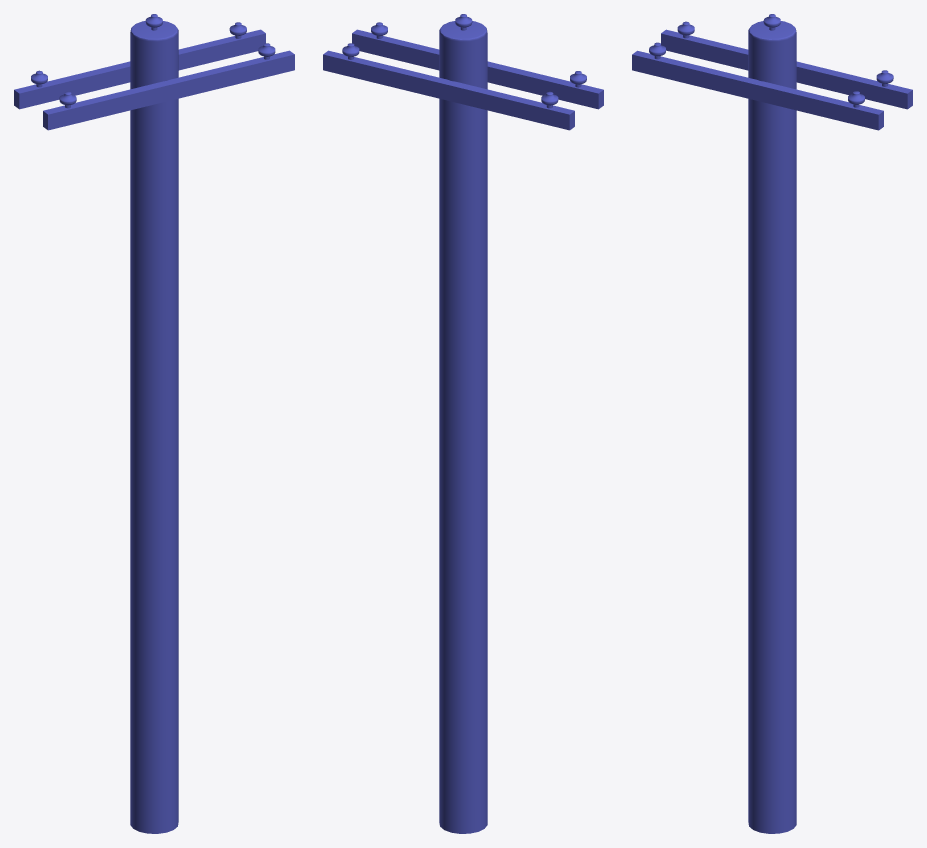
File: SM_utilityPole.fbx
3 views of the same model, side by side, from view 1: azimuth 30°, elevation 25°; view 2: azimuth 150°, elevation 25°; view 3: azimuth 330°, elevation 25° (orthographic).
Visible parts, largest first — view 1: SM_utilityPole; view 2: SM_utilityPole; view 3: SM_utilityPole.
Boxes of the visible parts, x1=… form: SM_utilityPole: x1=14, y1=14, x2=294, y2=833; SM_utilityPole: x1=323, y1=14, x2=603, y2=833; SM_utilityPole: x1=632, y1=14, x2=912, y2=833.
Size of what is drawn, in the model's own units: 13.94 by 43.64 by 3.63.
